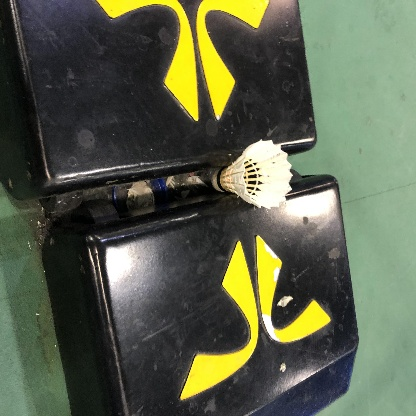ball_single: (211, 140, 293, 210)
